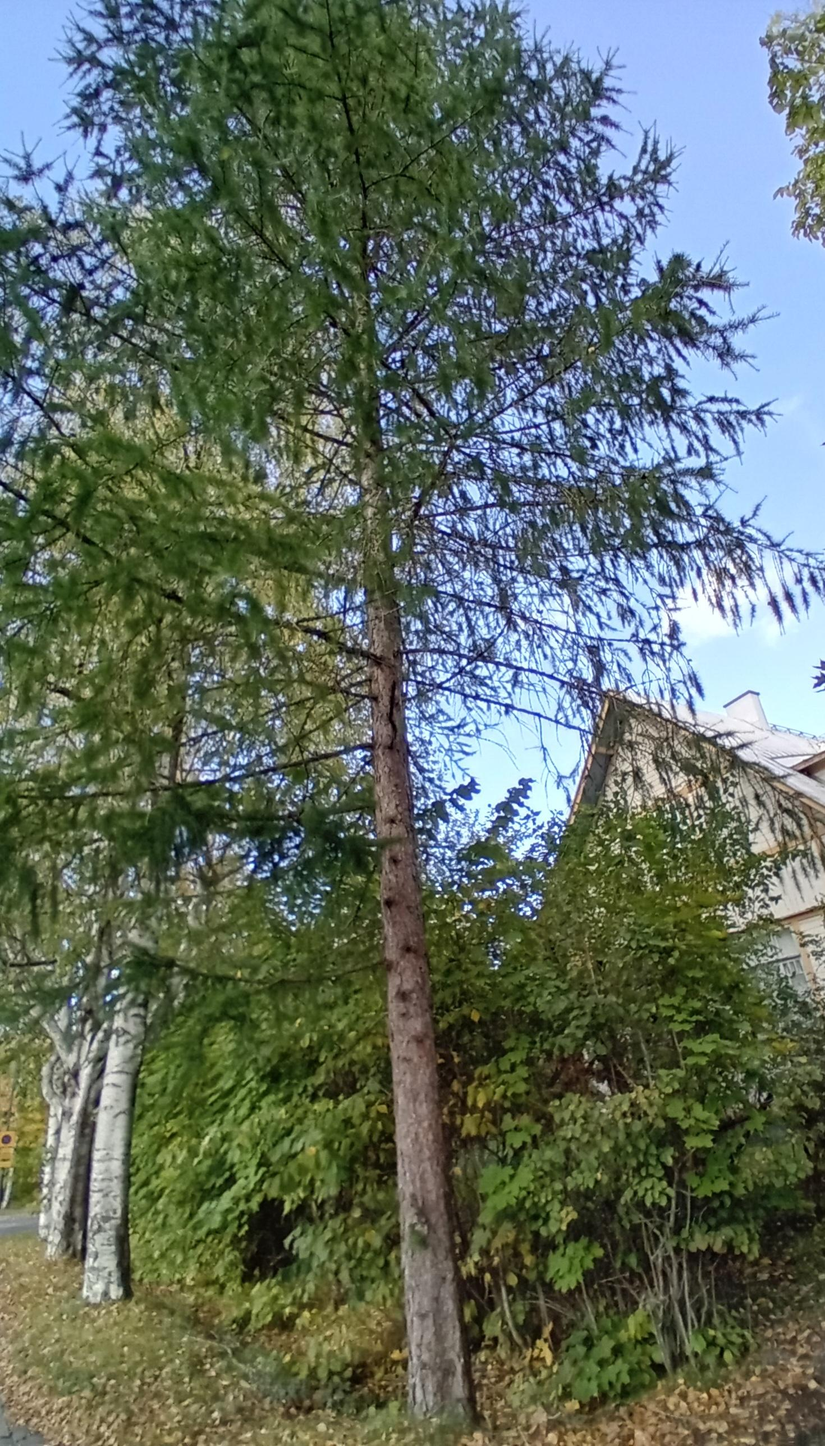Spruce: (144, 0, 654, 1410)
